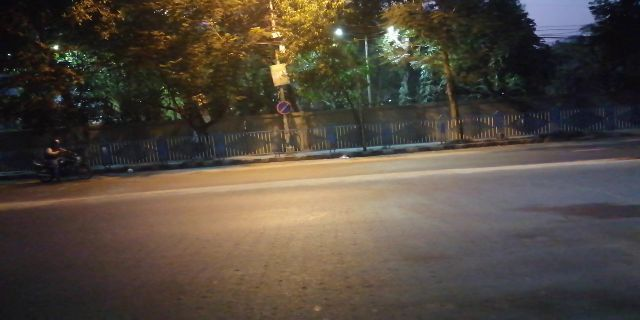Motorbike: (28, 134, 96, 186)
